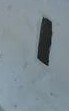Spalling: (36, 16, 53, 68)
